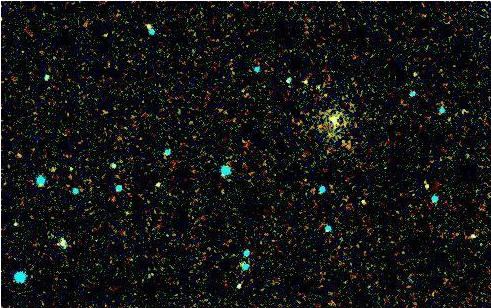star: (411, 171, 441, 201)
